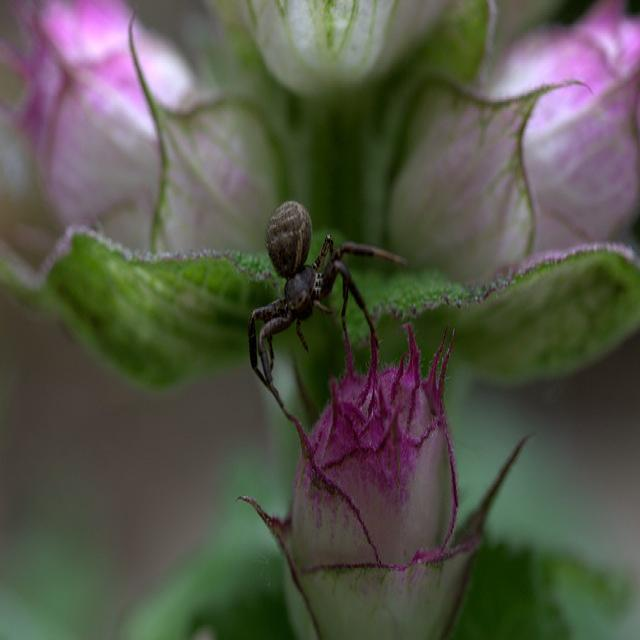spyder: (248, 201, 409, 402)
